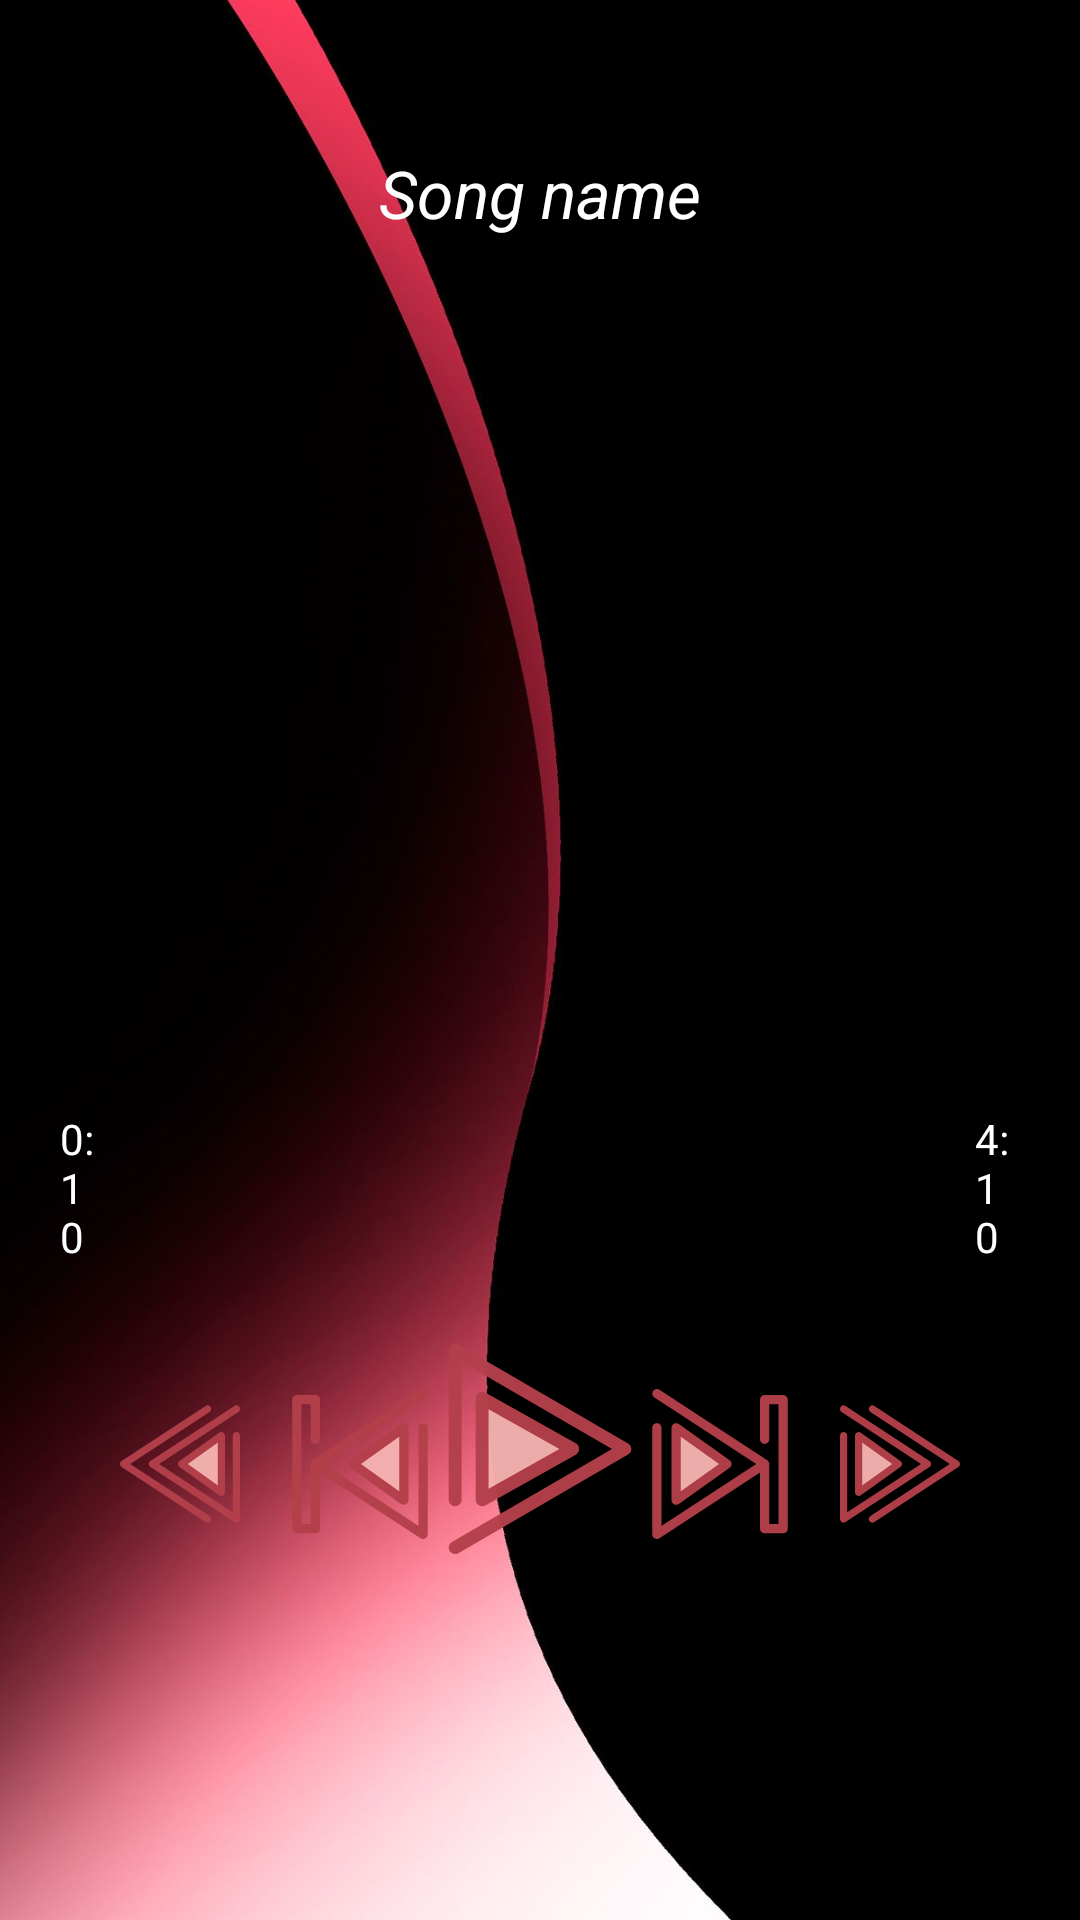

Screen size 1080*1920. Icon name, then its center in pixels as (x,y):
backward: (360,1464), (180,1464)
fast forward: (900,1464)
forward: (720,1464)
play: (540,1449)
